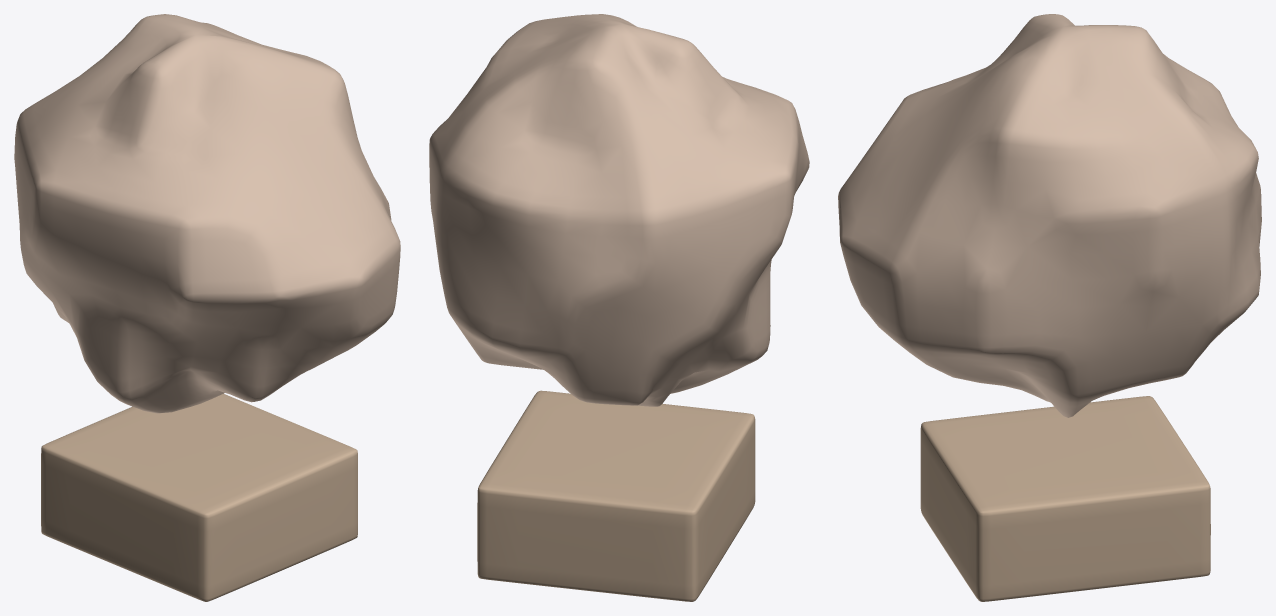
File: PROP_Acorn_v2.glb
3 views of the same model, side by side, from view 1: azimuth 30°, elevation 25°; view 2: azimuth 150°, elevation 25°; view 3: azimuth 270°, elevation 25° (orthographic). The views are drawn at different scales.
Visible parts, largest first — view 1: PROP_Acorn_v2; view 2: PROP_Acorn_v2; view 3: PROP_Acorn_v2.
Part boxes in pixels (box(x1,y1,x2,y2)): PROP_Acorn_v2: box(14, 14, 400, 601); PROP_Acorn_v2: box(429, 14, 809, 601); PROP_Acorn_v2: box(838, 14, 1261, 601).
Bounding box in the file's own units: 0.3334 × 0.5091 × 0.3784.
